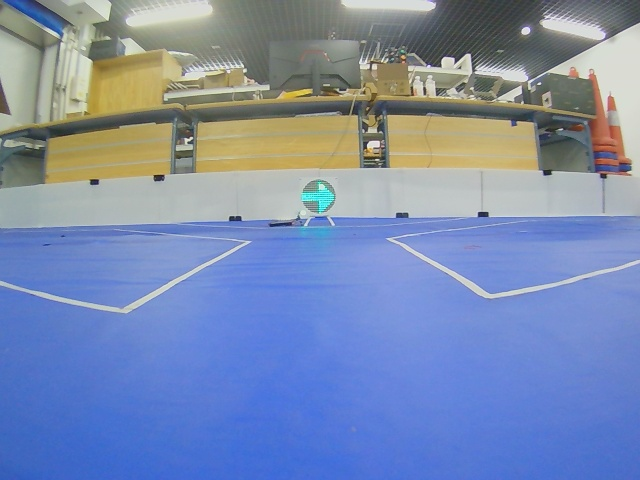right_green: (301, 179, 335, 214)
